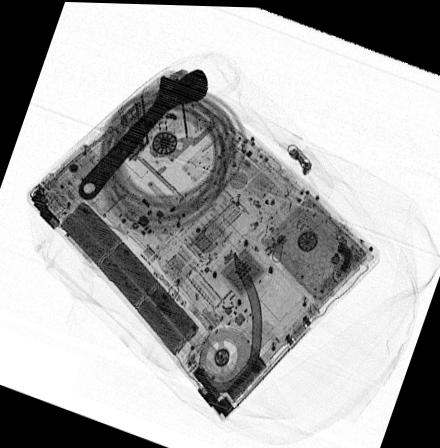Wrench: (76, 66, 209, 203)
